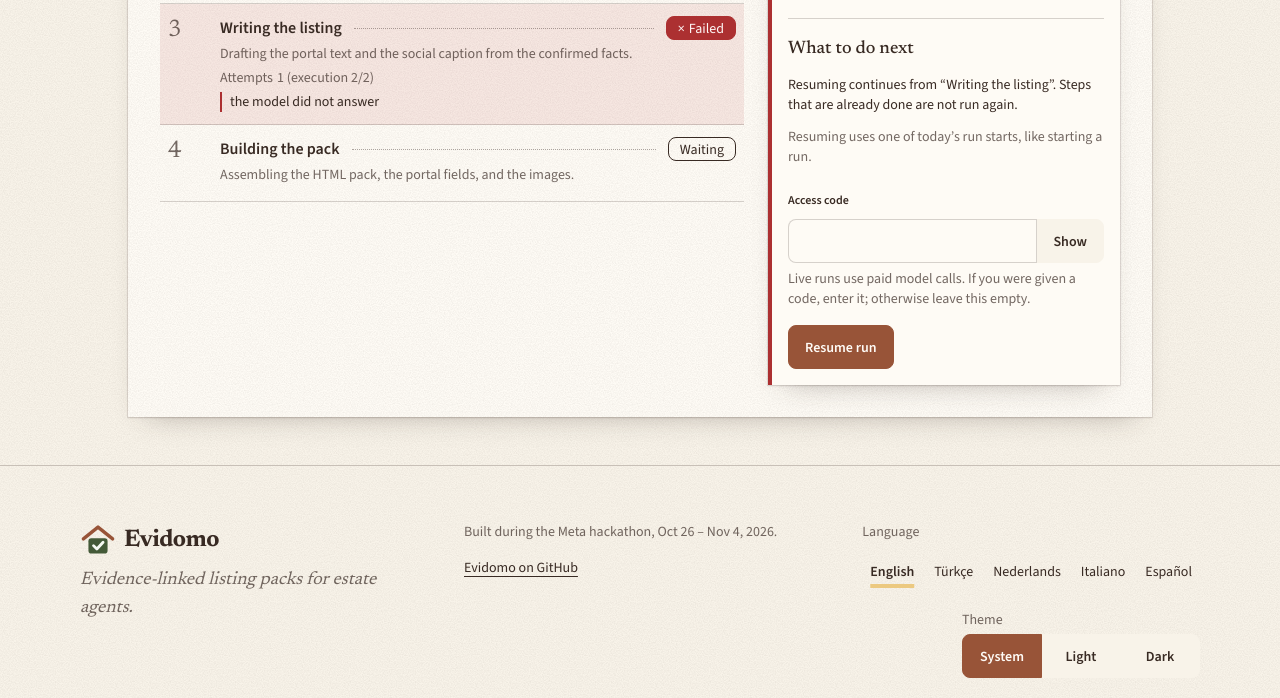
it: failed run: what stopped, what is kept, what to do › 409 daily_budget_reached: names the wait when Retry-After is sent, else says tomorrow
(page scrolled)
Click the button "Resume run" at (841, 347), box x1=788 y1=325 x2=894 y2=369
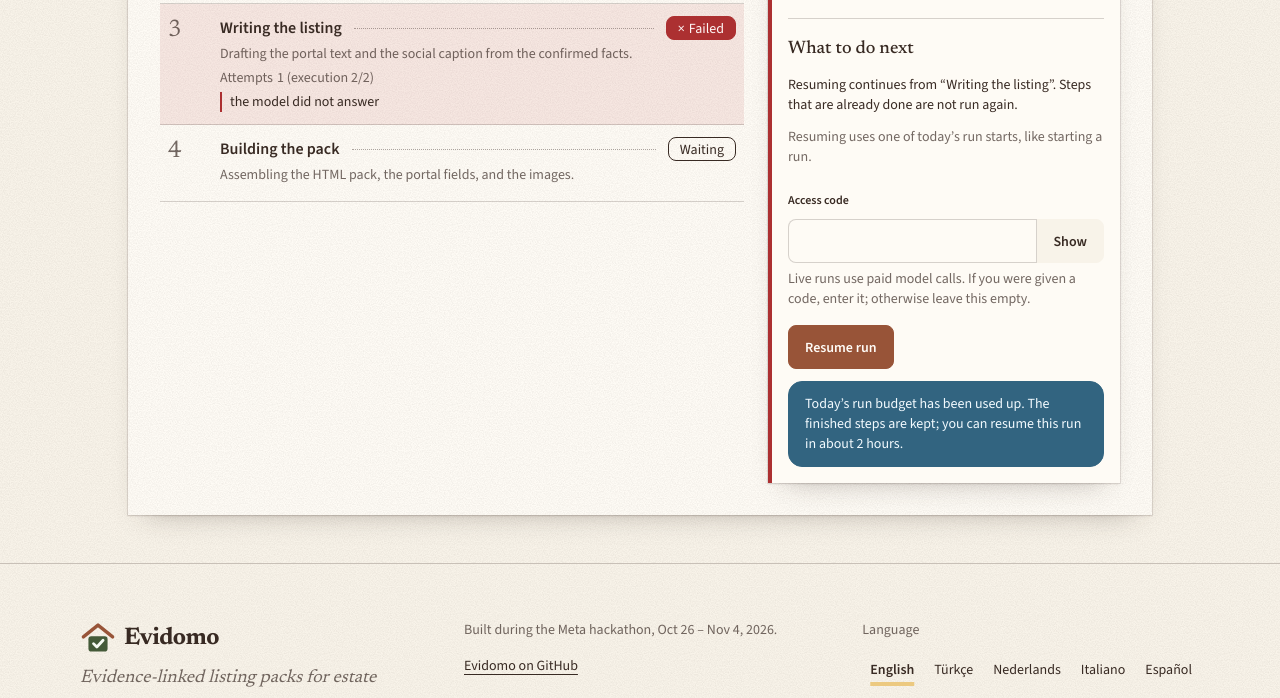
Expected: the text "you can resume this run in about 2 hours" is shown, x1=805 y1=394 x2=1081 y2=453
